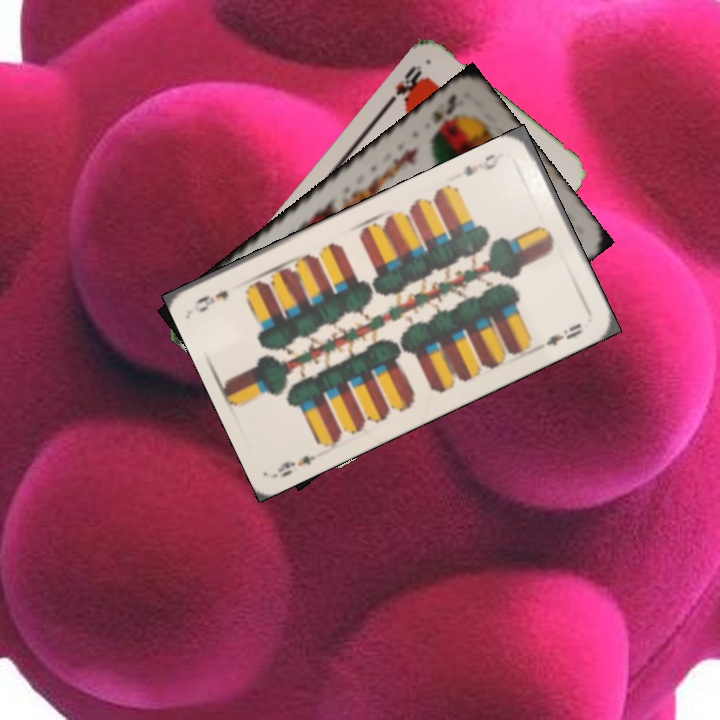E9: (459, 148, 507, 179), (273, 451, 318, 480)
HO: (382, 61, 424, 109)
SK: (428, 90, 461, 137)
